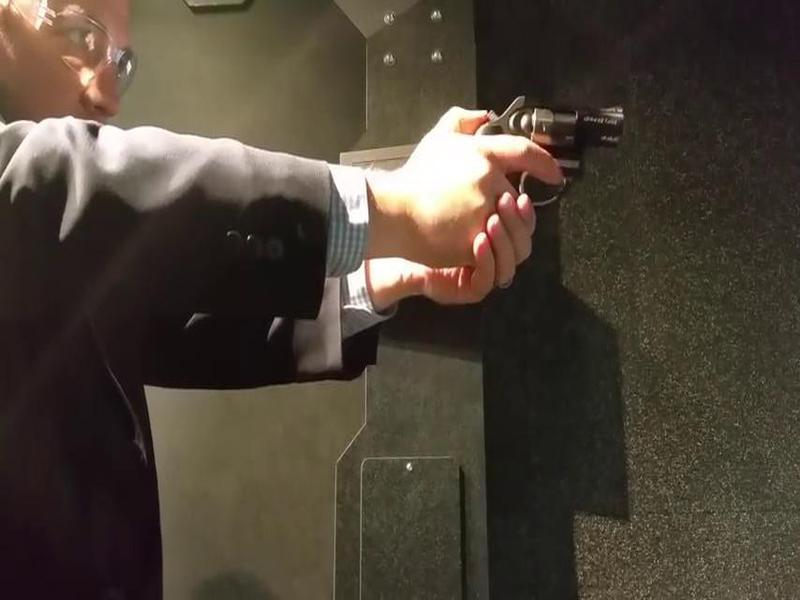Revolver: (413, 87, 636, 268)
